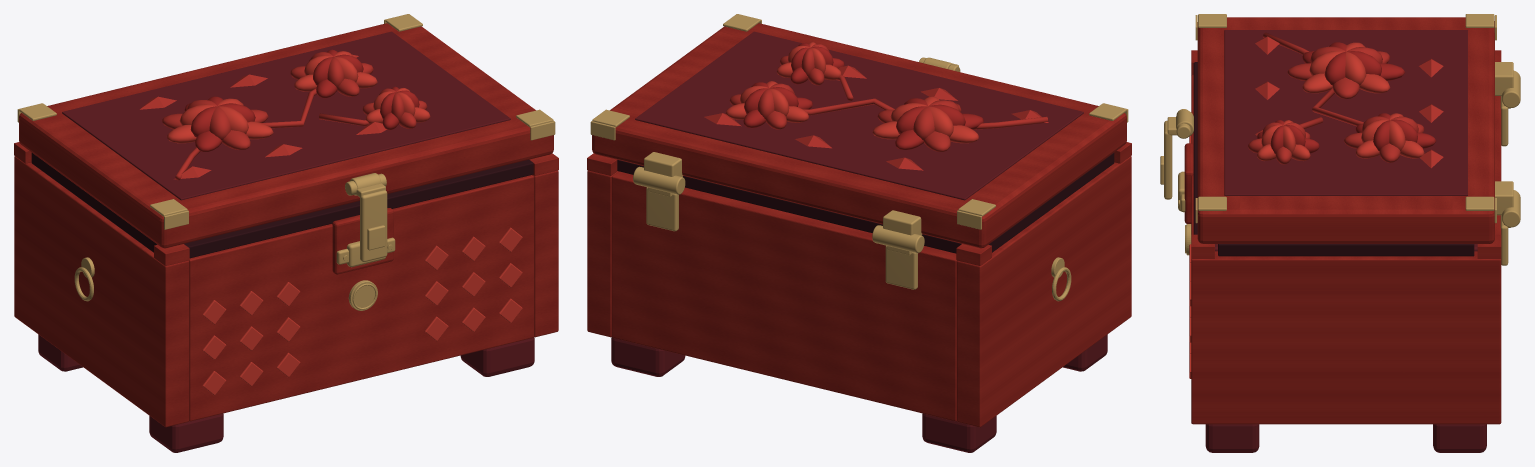
File: china.glb
The picture shows the model from 3 angles, left to right: view 1: azimuth 30°, elevation 25°; view 2: azimuth 150°, elevation 25°; view 3: azimuth 270°, elevation 25°; orthographic projection. The views are drawn at different scales.
Parts seen in each view (by area): view 1: Lacquer / face, Lid / polished slab, Lacquer / side, Relief / inset ground, Lacquer seam / long, Lacquer / side.001, Lacquer foot, Lacquer foot.002, Latch / lifting hasp, Lacquer / clasp seat, Lacquer seam / side, Lacquer foot.001 (+2 smaller); view 2: Lacquer / face.001, Lid / polished slab, Lacquer / side, Relief / inset ground, Lacquer / side.001, Lacquer seam / long.001, Lacquer foot.001, Lacquer foot.003, Lacquer seam / side, Hinge / fixed mount.001, Hinge / fixed mount, Hinge / fixed barrel.001 (+7 smaller); view 3: Lacquer / side.001, Relief / inset ground, Lid / polished slab, Lacquer seam / side.001, Lacquer foot.002, Lacquer foot.003, Lacquer seam / long, Lacquer / face.001, Lacquer / clasp seat, Latch / lifting hasp, Hinge / moving leaf, Hinge / moving leaf.001 (+18 smaller).
Boxes of the visible parts, bbox=[...] form: Lacquer / face: bbox=[189, 175, 534, 421]; Lid / polished slab: bbox=[19, 23, 553, 248]; Lacquer / side: bbox=[14, 156, 189, 427]; Relief / inset ground: bbox=[62, 31, 510, 200]; Lacquer seam / long: bbox=[184, 159, 533, 258]; Lacquer / side.001: bbox=[532, 170, 558, 337]; Lacquer foot: bbox=[149, 413, 223, 452]; Lacquer foot.002: bbox=[460, 337, 534, 376]; Latch / lifting hasp: bbox=[360, 190, 387, 261]; Lacquer / clasp seat: bbox=[332, 208, 393, 274]; Lacquer seam / side: bbox=[31, 153, 157, 252]; Lacquer foot.001: bbox=[38, 334, 82, 371]; Lacquer / face.001: bbox=[611, 171, 956, 421]; Lid / polished slab: bbox=[592, 23, 1126, 248]; Lacquer / side: bbox=[956, 156, 1131, 427]; Relief / inset ground: bbox=[635, 31, 1083, 200]; Lacquer / side.001: bbox=[587, 170, 618, 337]; Lacquer seam / long.001: bbox=[617, 160, 961, 253]; Lacquer foot.001: bbox=[922, 413, 996, 452]; Lacquer foot.003: bbox=[611, 337, 685, 376]; Lacquer seam / side: bbox=[988, 153, 1114, 252]; Hinge / fixed mount.001: bbox=[646, 187, 678, 231]; Hinge / fixed mount: bbox=[885, 245, 917, 289]; Hinge / fixed barrel.001: bbox=[633, 166, 685, 194]; Lacquer / side.001: bbox=[1191, 251, 1501, 424]; Relief / inset ground: bbox=[1224, 30, 1467, 195]; Lid / polished slab: bbox=[1197, 17, 1494, 243]; Lacquer seam / side.001: bbox=[1218, 244, 1474, 256]; Lacquer foot.002: bbox=[1205, 424, 1259, 452]; Lacquer foot.003: bbox=[1433, 424, 1486, 452]; Lacquer seam / long: bbox=[1193, 62, 1197, 234]; Lacquer / face.001: bbox=[1495, 96, 1501, 234]; Lacquer / clasp seat: bbox=[1184, 143, 1193, 223]; Latch / lifting hasp: bbox=[1164, 120, 1172, 199]; Hinge / moving leaf: bbox=[1495, 62, 1513, 95]; Hinge / moving leaf.001: bbox=[1495, 181, 1513, 215].
Size of the model in its own units: 3.79 by 2.47 by 2.88.
7 materials, 1 textured.
